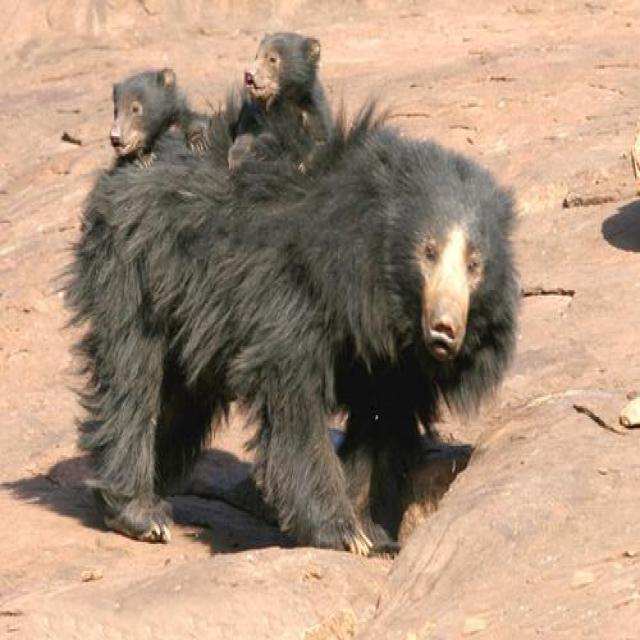Bear: (68, 116, 521, 558), (223, 33, 343, 174), (109, 69, 187, 163)
